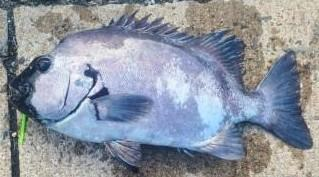fish: (8, 12, 310, 166)
